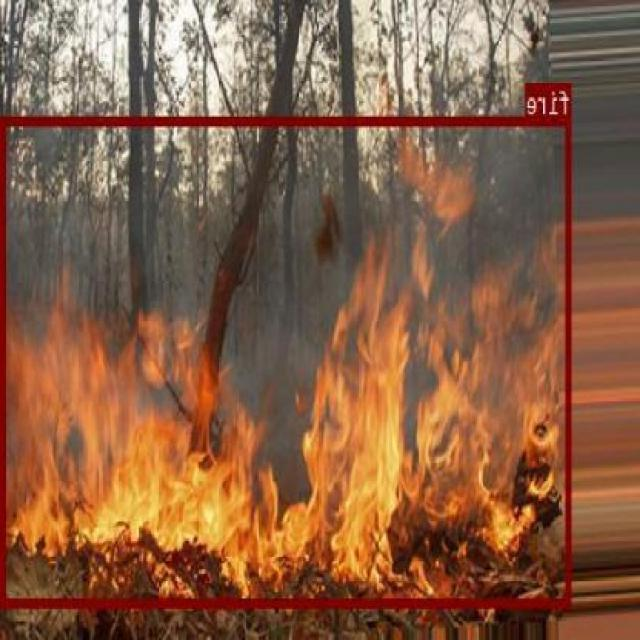Fire: (1, 116, 572, 604)
